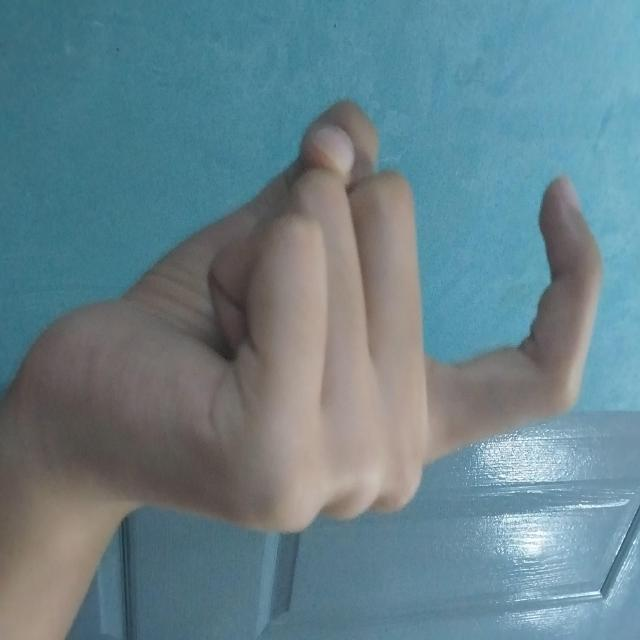X: (100, 33, 536, 640)
